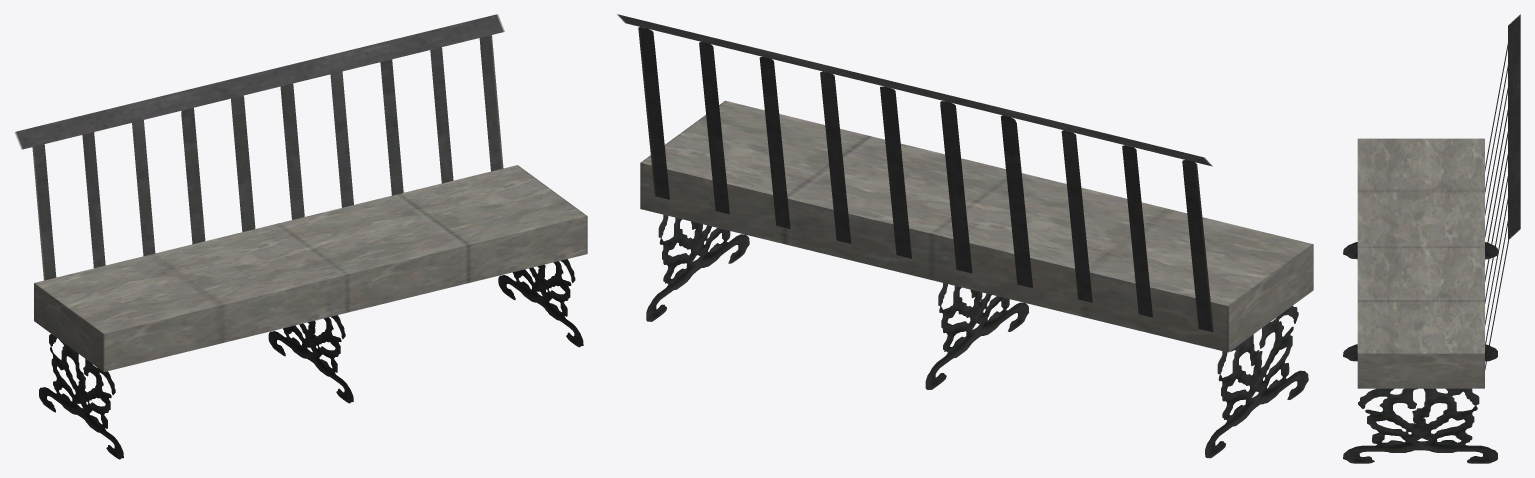
File: mun_all_imprv_bench_l2.fbx
3 views of the same model, side by side, from view 1: azimuth 30°, elevation 25°; view 2: azimuth 150°, elevation 25°; view 3: azimuth 270°, elevation 25° (orthographic). The views are drawn at different scales.
Visible parts, largest first — view 1: mesh_node; view 2: mesh_node; view 3: mesh_node.
Boxes of the visible parts, left/top/right/bottom form: mesh_node: left=14, top=14, right=587, bottom=459; mesh_node: left=617, top=14, right=1313, bottom=458; mesh_node: left=1343, top=14, right=1520, bottom=463.
Size of the model in its own units: 2 by 1.04 by 0.7004.
